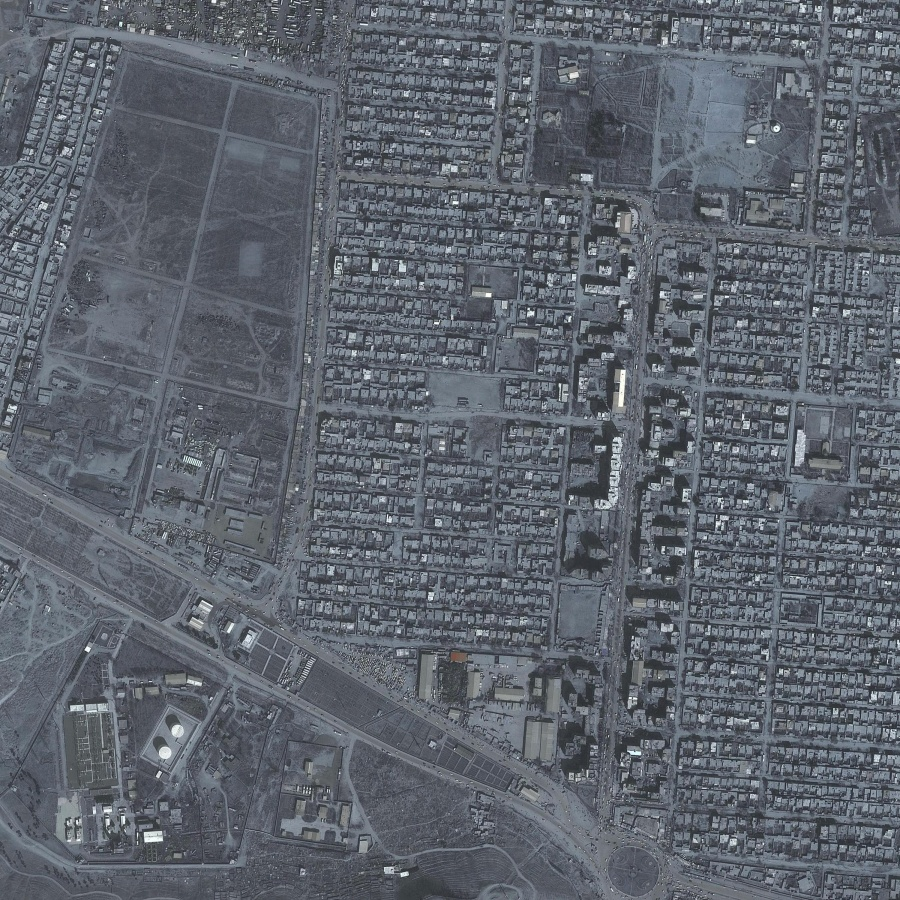PowerPlant: (65, 666, 208, 857)
